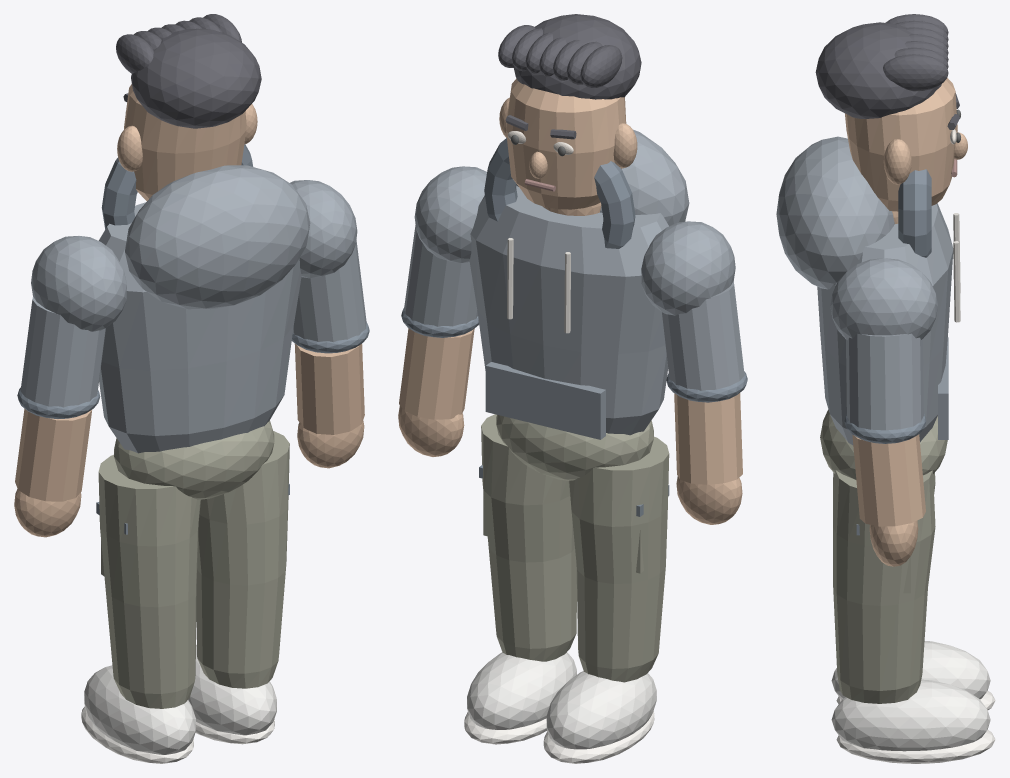
File: hoodie_male.glb
The picture shows the model from 3 angles, left to right: view 1: azimuth 30°, elevation 25°; view 2: azimuth 150°, elevation 25°; view 3: azimuth 270°, elevation 25°; orthographic projection.
Parts seen in each view (by area): view 1: Body_Torso_002, Body_Hood_004, LL_Pant_038, RL_Pant_045, Body_HairCap_020, LA_Shoulder_028, Body_Pelvis_003, LA_Sleeve_029, Body_Face_009, LA_Forearm_031, RA_Forearm_036, LL_Sneaker_041 (+12 smaller); view 2: Body_Torso_002, LL_Pant_038, RL_Pant_045, Body_Face_009, LA_Shoulder_028, LL_Sneaker_041, LA_Sleeve_029, Body_HoodPocket_008, RL_Sneaker_048, Body_Pelvis_003, LA_Forearm_031, RA_Forearm_036 (+18 smaller); view 3: RL_Pant_045, Body_Hood_004, Body_Torso_002, RL_Sneaker_048, Body_Face_009, Body_HairCap_020, RA_Sleeve_034, RA_Shoulder_033, RA_Forearm_036, LL_Sneaker_041, Body_HoodOpening_005, Body_Pelvis_003 (+9 smaller).
Boxes of the visible parts, x1=… form: Body_Torso_002: x1=98, y1=202, x2=301, y2=453; Body_Hood_004: x1=125, y1=165, x2=310, y2=309; LL_Pant_038: x1=98, y1=454, x2=200, y2=708; RL_Pant_045: x1=196, y1=431, x2=289, y2=688; Body_HairCap_020: x1=131, y1=28, x2=261, y2=128; LA_Shoulder_028: x1=31, y1=236, x2=126, y2=331; Body_Pelvis_003: x1=114, y1=420, x2=274, y2=499; LA_Sleeve_029: x1=20, y1=296, x2=105, y2=407; Body_Face_009: x1=124, y1=84, x2=246, y2=200; LA_Forearm_031: x1=15, y1=408, x2=91, y2=501; RA_Forearm_036: x1=294, y1=343, x2=364, y2=434; LL_Sneaker_041: x1=84, y1=665, x2=195, y2=754; Body_Torso_002: x1=469, y1=185, x2=668, y2=435; LL_Pant_038: x1=568, y1=436, x2=669, y2=682; RL_Pant_045: x1=481, y1=414, x2=576, y2=661; Body_Face_009: x1=506, y1=78, x2=626, y2=209; LA_Shoulder_028: x1=641, y1=221, x2=735, y2=315; LL_Sneaker_041: x1=546, y1=671, x2=656, y2=749; LA_Sleeve_029: x1=661, y1=281, x2=744, y2=390; Body_HoodPocket_008: x1=485, y1=362, x2=605, y2=439; RL_Sneaker_048: x1=467, y1=652, x2=576, y2=729; Body_Pelvis_003: x1=496, y1=415, x2=653, y2=480; LA_Forearm_031: x1=674, y1=393, x2=742, y2=484; RA_Forearm_036: x1=399, y1=328, x2=474, y2=419; RL_Pant_045: x1=833, y1=470, x2=935, y2=703; Body_Hood_004: x1=776, y1=136, x2=894, y2=289; Body_Torso_002: x1=817, y1=203, x2=953, y2=445; RL_Sneaker_048: x1=831, y1=679, x2=990, y2=751; Body_Face_009: x1=845, y1=78, x2=957, y2=211; Body_HairCap_020: x1=815, y1=22, x2=941, y2=118; RA_Sleeve_034: x1=846, y1=333, x2=923, y2=430; RA_Shoulder_033: x1=830, y1=258, x2=937, y2=340; RA_Forearm_036: x1=852, y1=434, x2=925, y2=526; LL_Sneaker_041: x1=831, y1=641, x2=990, y2=699; Body_HoodOpening_005: x1=898, y1=169, x2=931, y2=257; Body_Pelvis_003: x1=820, y1=409, x2=947, y2=479.
Bounding box in the file's own units: 1.54 × 3.03 × 0.854.
